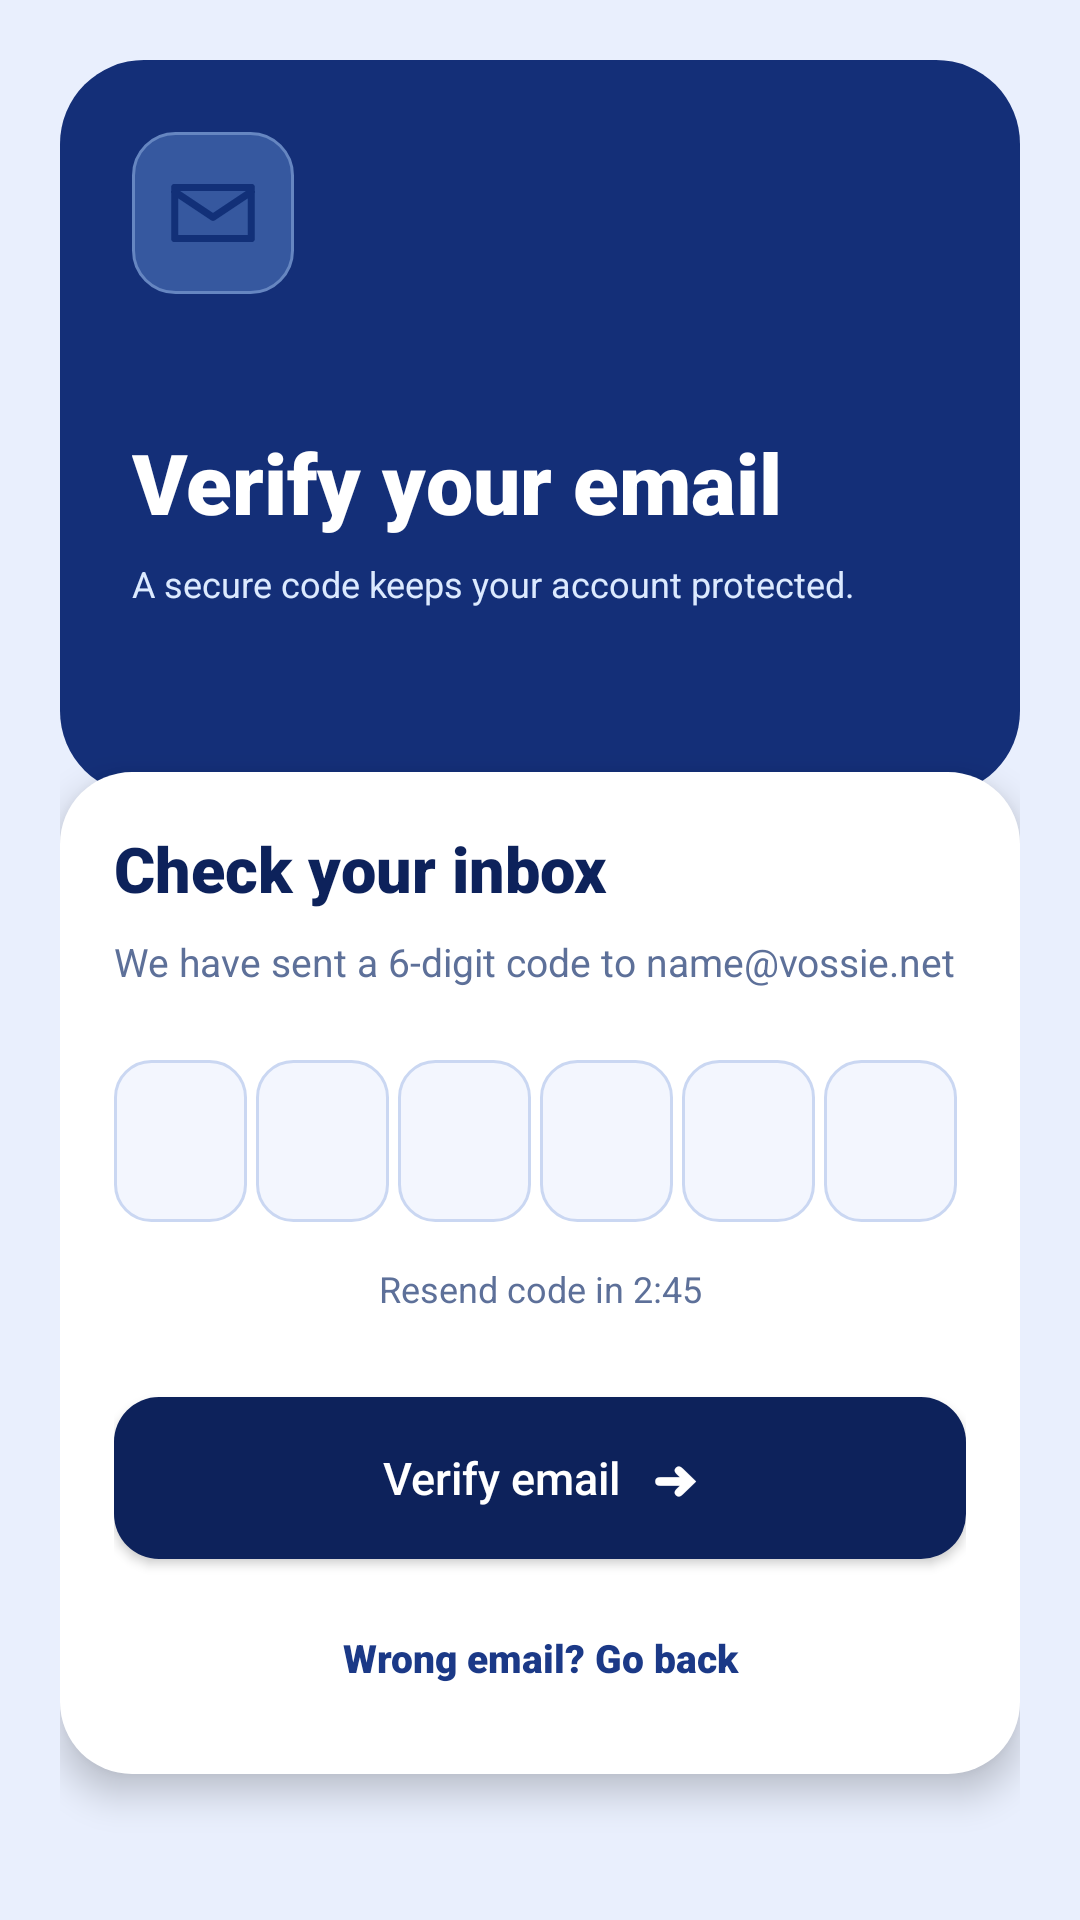

Named icons in this screenshot (1080x1920) and their bounding boxes, (x1, y1, x2, y2):
auth mail: (132, 132, 294, 294)
